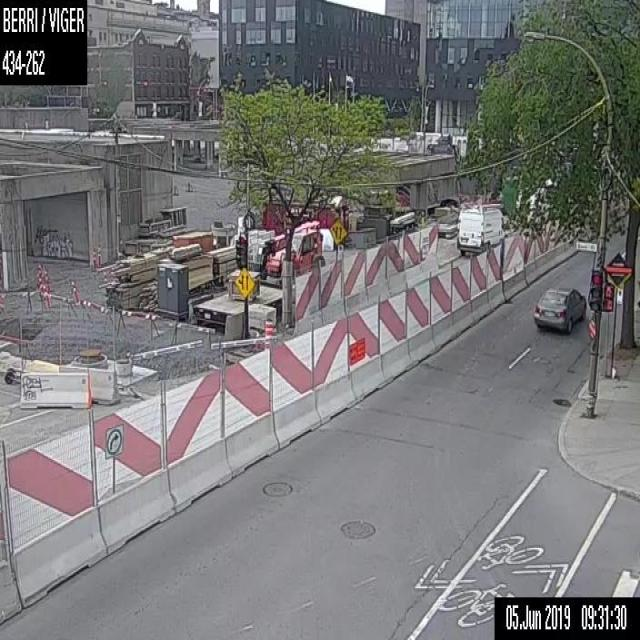construction: (264, 318, 275, 352)
vehicle: (455, 202, 514, 258), (532, 281, 586, 332)
